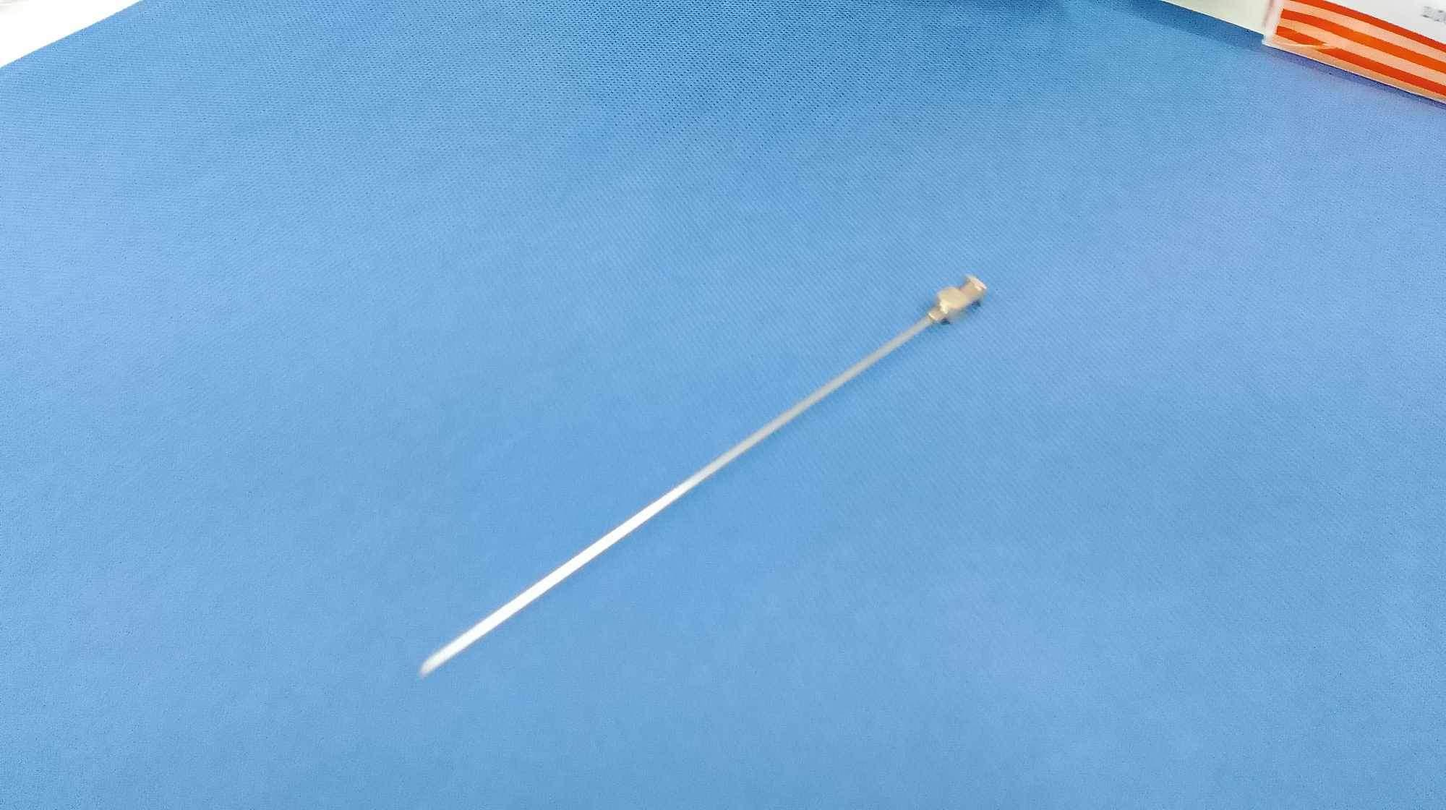Pathological: (4, 3, 1439, 805)
Sharps: (417, 272, 988, 678)
